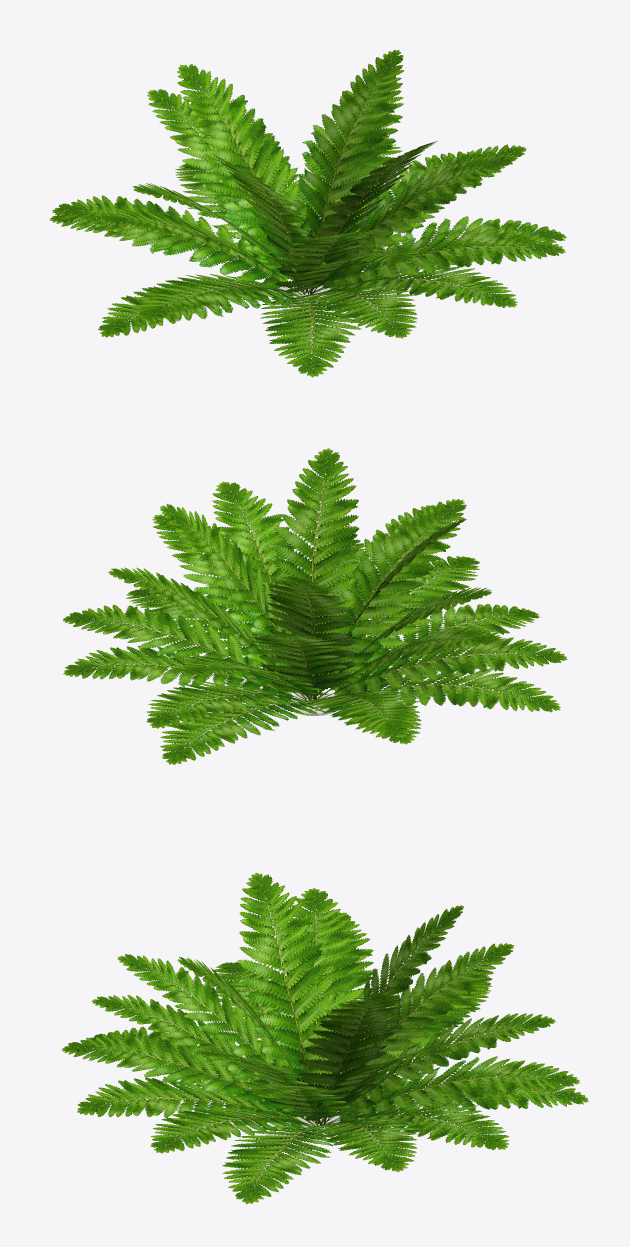
The model's file is Plant_1.FBX.
3 renders of one model, top to bottom at view 1: azimuth 30°, elevation 25°; view 2: azimuth 150°, elevation 25°; view 3: azimuth 270°, elevation 25°, orthographic. The views are drawn at different scales.
Parts seen in each view (by area): view 1: Plane023, Plane024, Plane022, Plane002, Plane004, Plane016, Plane013, Plane020, Plane021, Plane005, Plane025, Plane026 (+12 smaller); view 2: Plane026, Plane015, Plane017, Plane020, Plane023, Plane024, Plane016, Plane003, Plane001, Plane007, Plane018, Plane021 (+12 smaller); view 3: Plane025, Plane023, Plane013, Plane021, Plane018, Plane015, Plane005, Plane006, Plane014, Plane008, Plane007, Plane022 (+13 smaller).
Part boxes in pixels (left/top/right/bottom): Plane023: left=293, top=50, right=404, bottom=292; Plane024: left=177, top=64, right=310, bottom=294; Plane022: left=313, top=225, right=565, bottom=295; Plane002: left=52, top=195, right=302, bottom=294; Plane004: left=260, top=297, right=361, bottom=377; Plane016: left=313, top=153, right=517, bottom=289; Plane013: left=147, top=89, right=303, bottom=294; Plane020: left=138, top=274, right=313, bottom=322; Plane021: left=284, top=284, right=417, bottom=338; Plane005: left=312, top=266, right=517, bottom=307; Plane025: left=212, top=154, right=329, bottom=294; Plane026: left=295, top=141, right=437, bottom=279; Plane026: left=268, top=448, right=360, bottom=699; Plane015: left=312, top=499, right=466, bottom=699; Plane017: left=63, top=604, right=306, bottom=700; Plane020: left=322, top=634, right=567, bottom=705; Plane023: left=160, top=503, right=310, bottom=698; Plane024: left=266, top=576, right=357, bottom=699; Plane016: left=212, top=481, right=326, bottom=697; Plane003: left=328, top=666, right=560, bottom=712; Plane001: left=160, top=694, right=324, bottom=764; Plane007: left=63, top=645, right=305, bottom=704; Plane018: left=146, top=682, right=318, bottom=728; Plane021: left=318, top=556, right=479, bottom=692; Plane025: left=236, top=872, right=340, bottom=1124; Plane023: left=292, top=994, right=404, bottom=1124; Plane013: left=322, top=943, right=513, bottom=1123; Plane021: left=61, top=1032, right=315, bottom=1125; Plane018: left=326, top=1056, right=579, bottom=1124; Plane015: left=117, top=954, right=317, bottom=1125; Plane005: left=77, top=1076, right=313, bottom=1132; Plane006: left=222, top=1124, right=341, bottom=1204; Plane014: left=274, top=888, right=363, bottom=1123; Plane008: left=327, top=1013, right=555, bottom=1122; Plane007: left=317, top=1101, right=509, bottom=1149; Plane022: left=150, top=1105, right=327, bottom=1153.
Bounding box in the file's own units: 53.27 × 21.42 × 52.12.
